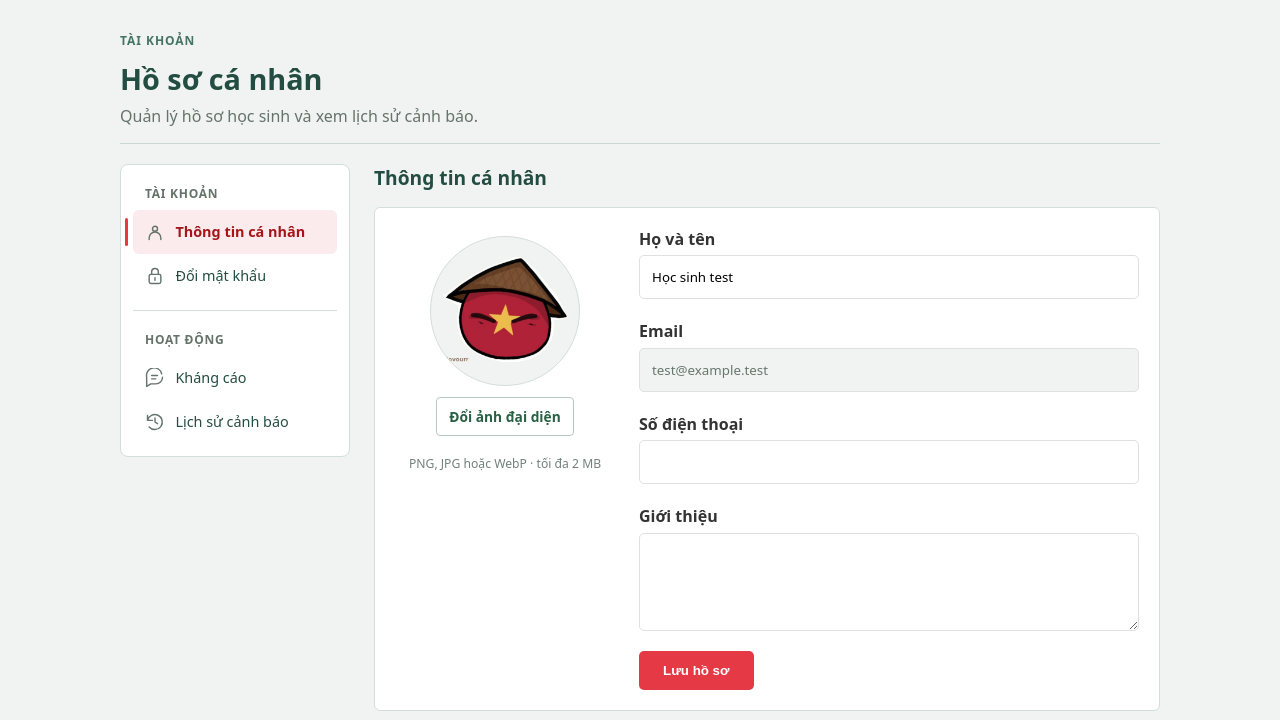
student profile shows only the selected section and preserves unsaved personal details
The width and height of the screenshot is (1280, 720).
Expected: the element that starts with "Đổi ảnh đại diện" is shown, [374,207,1160,711]
Replace the text in the field labelled "Họ và tên" with "Tên đang chỉnh sửa" at (889, 277), box [639,255,1139,299]
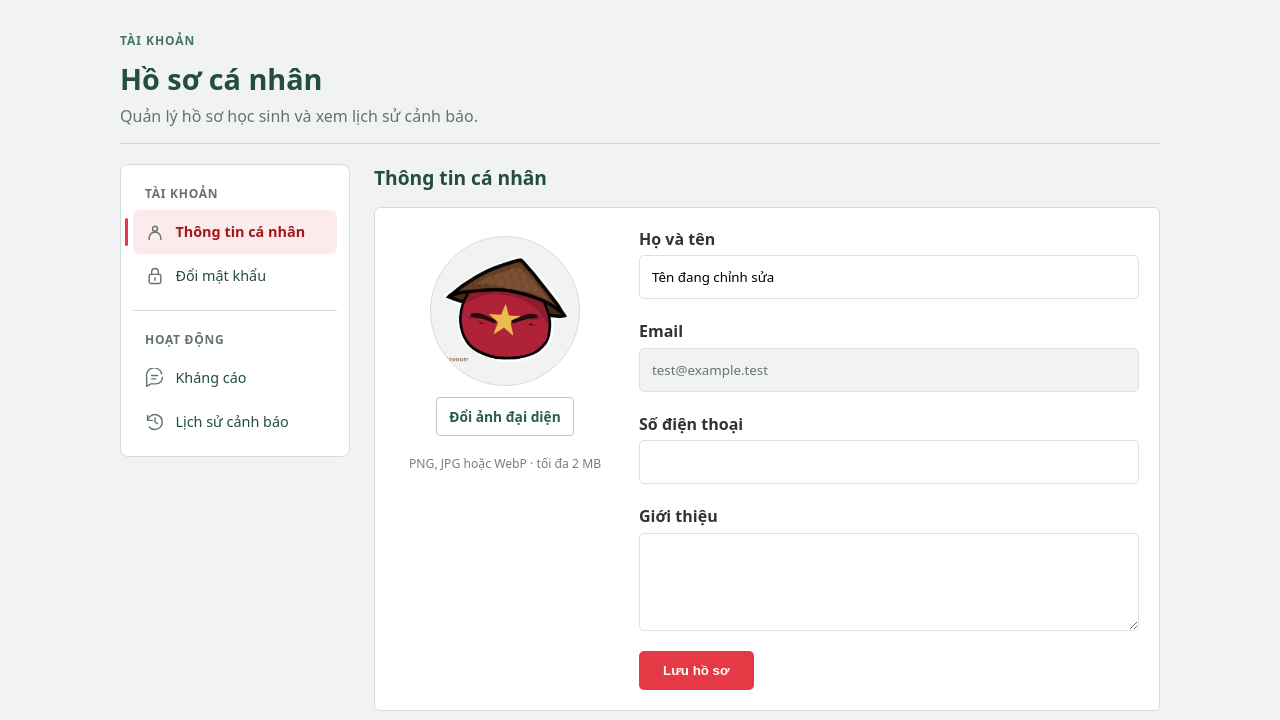
Click the button "Đổi mật khẩu" at (235, 276), box [133,254,337,298]
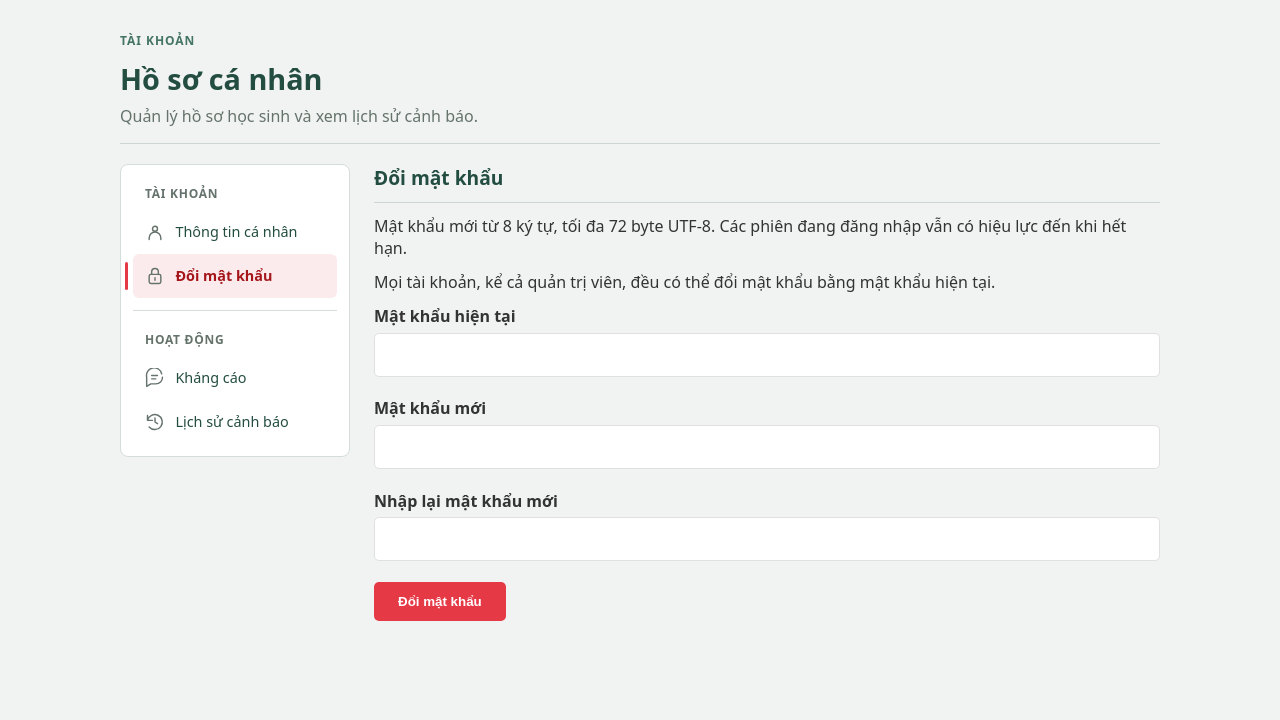
Expected: the form named "Đổi mật khẩu" is shown, [374,305,1160,621]
Click the button "Lịch sử cảnh báo" at (235, 422), box [133,400,337,444]
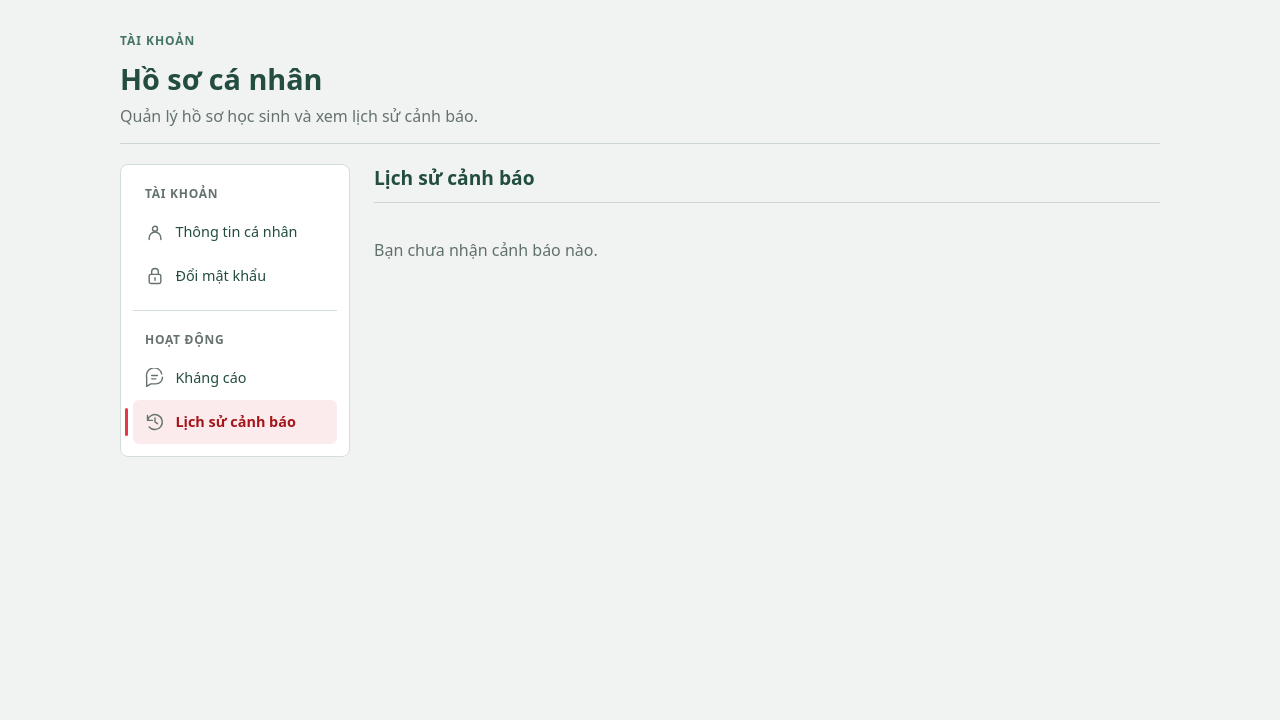
Expected: the element showing "Lịch sử cảnh báo Bạn chưa nhận cảnh báo nào." is shown, [374,164,1160,285]
Click the button "Thông tin cá nhân" at (235, 232), box [133,210,337,254]
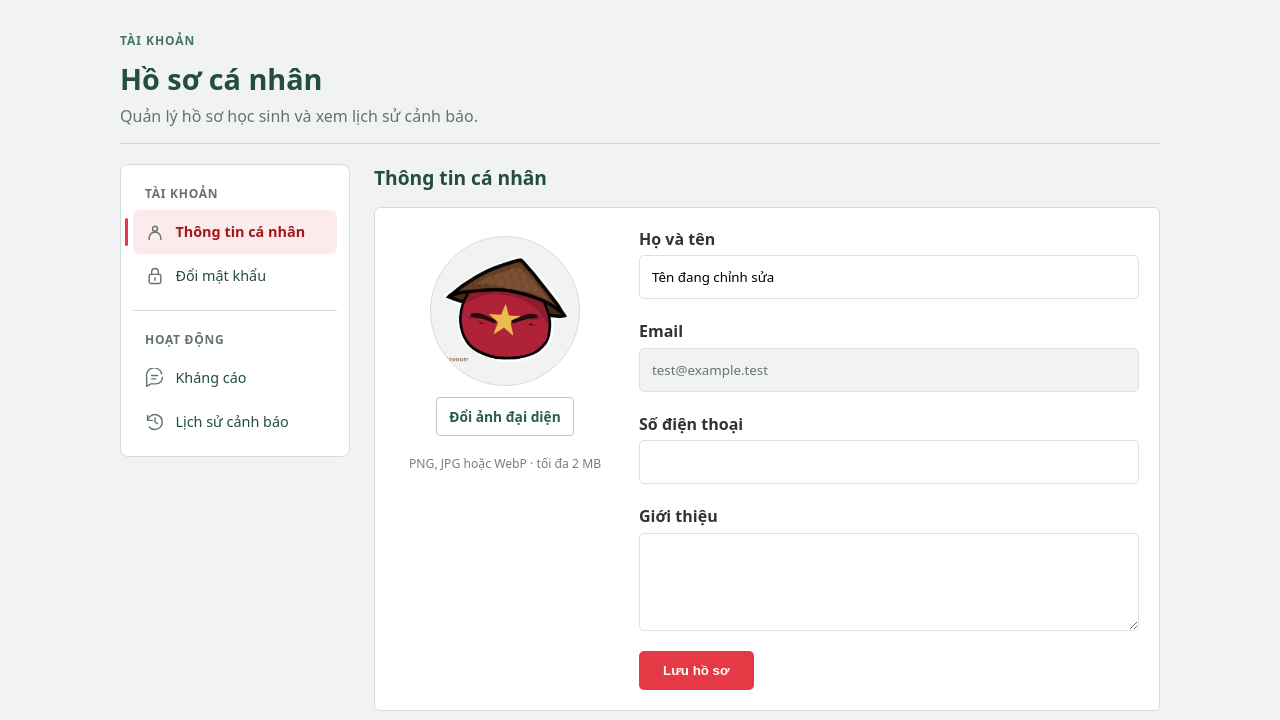
Expected: the field labelled "Họ và tên" holds "Tên đang chỉnh sửa", [639,255,1139,299]
